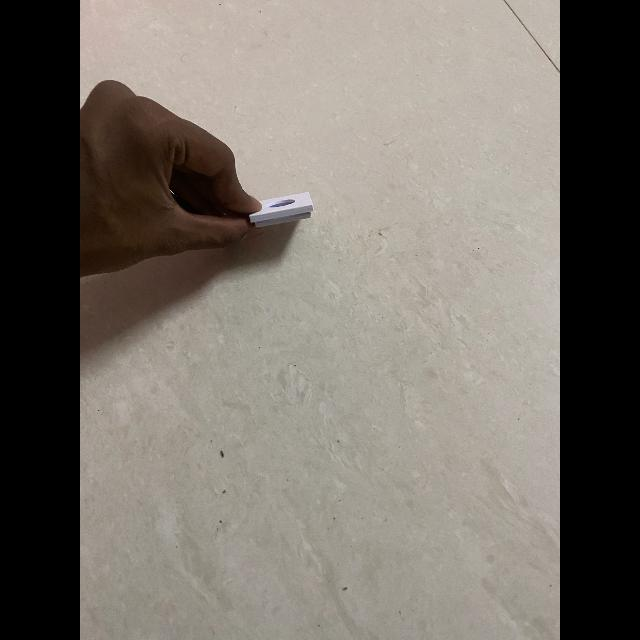RASPBERY PI CAM ENCLOSURE: (248, 192, 314, 228)
